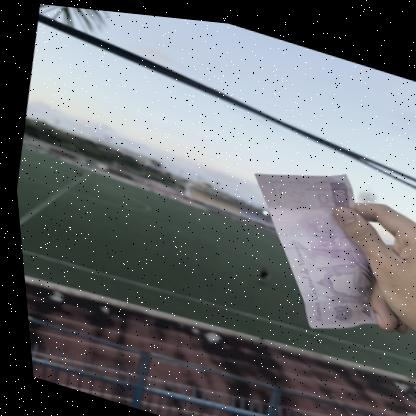one_hundred-back-vef: (219, 137, 404, 343)
